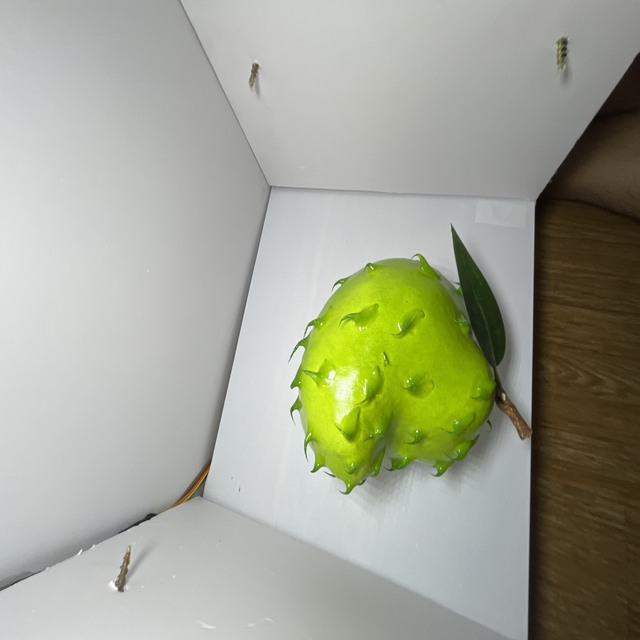Man cau: (286, 253, 502, 495)
